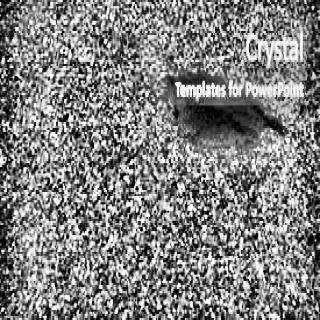pothole: (168, 73, 286, 152)
